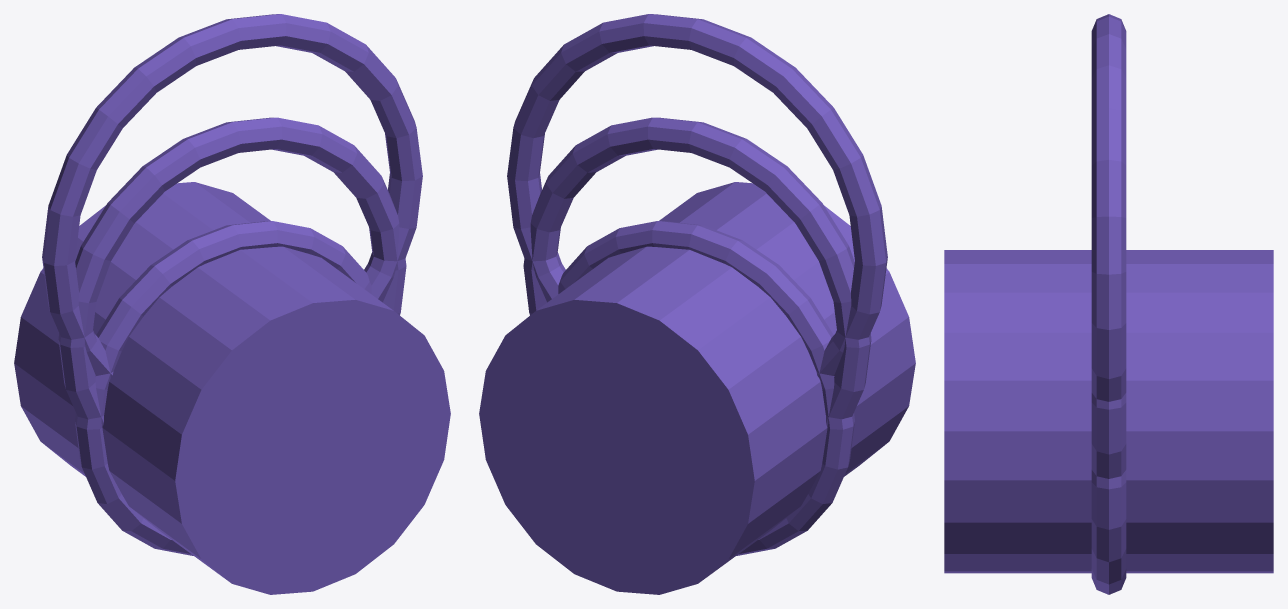
Rendered from sport_102.glb.
3 renders of one model, left to right at view 1: azimuth 30°, elevation 25°; view 2: azimuth 150°, elevation 25°; view 3: azimuth 270°, elevation 25°, orthographic. The views are drawn at different scales.
Visible parts, largest first — view 1: world; view 2: world; view 3: world.
Part boxes in pixels (<box>): world: <box>14,14,450,594</box>; world: <box>479,14,915,594</box>; world: <box>944,14,1273,594</box>.
Size of the model in its own units: 1.15 by 1.55 by 0.85.
